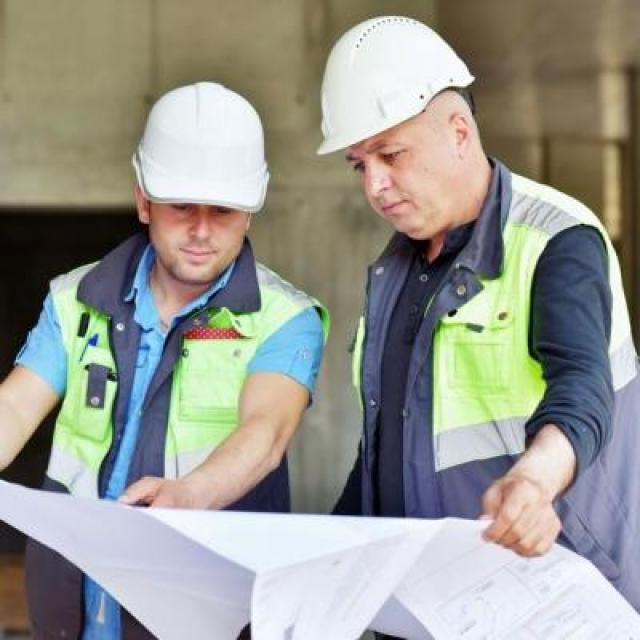Reflective-Jacket: (346, 181, 636, 502), (38, 256, 334, 499)
Safety-Helmet: (308, 10, 482, 160), (123, 77, 282, 216)
